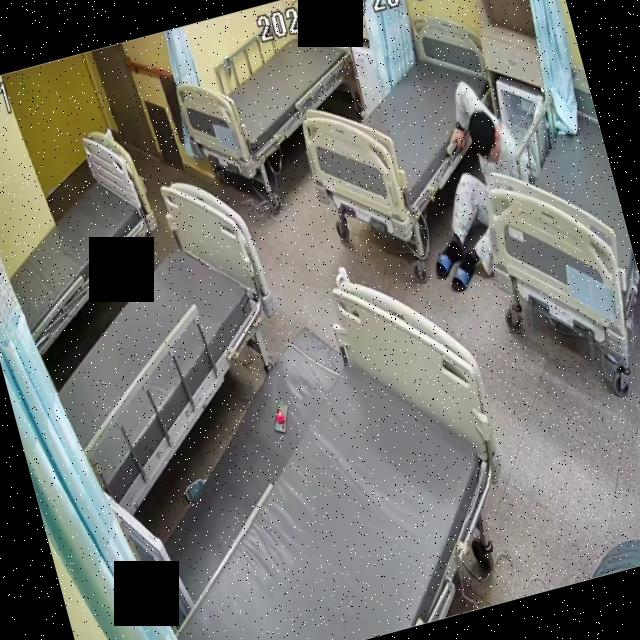bed: (100, 264, 531, 640), (8, 172, 310, 516), (451, 65, 640, 383), (280, 12, 516, 238), (0, 122, 180, 353), (168, 2, 373, 187)
fall: (393, 77, 557, 296)
patient: (394, 73, 558, 293)
